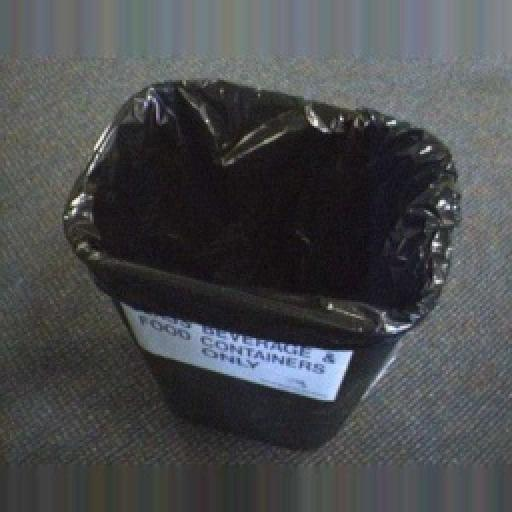trash-can: (56, 27, 475, 462)
